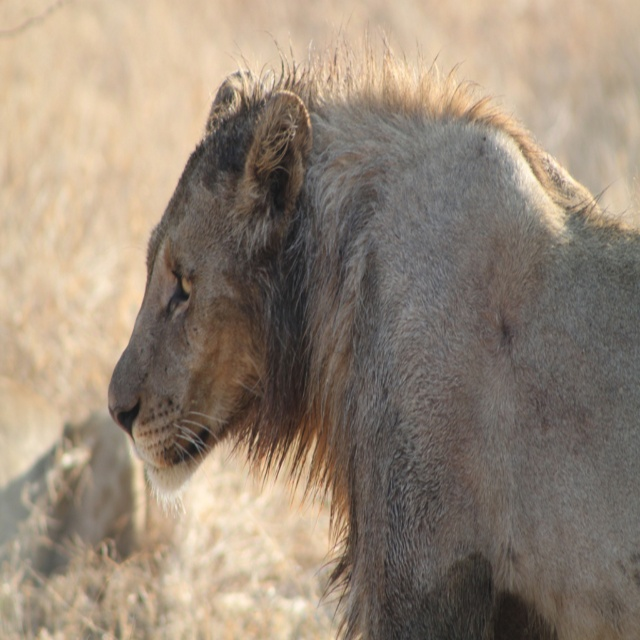Lion: (110, 7, 639, 639)
